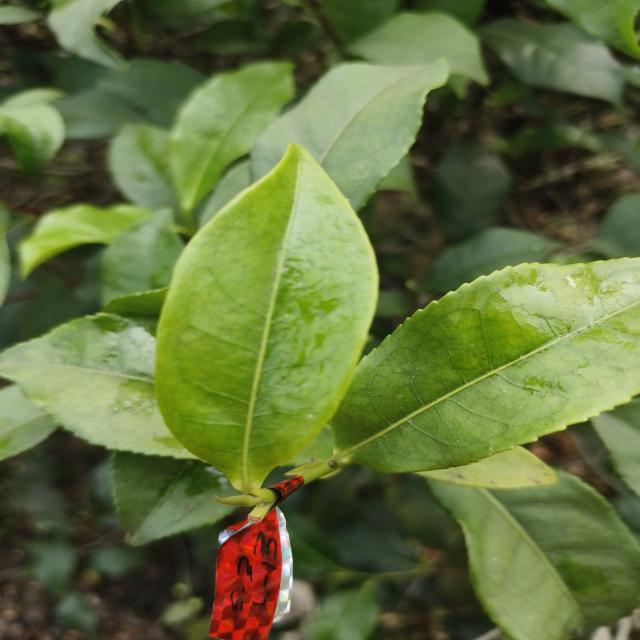Leaf: (155, 144, 378, 493), (331, 258, 640, 472), (429, 471, 640, 640), (251, 59, 448, 211), (0, 313, 195, 459), (169, 62, 294, 218), (479, 19, 626, 104), (110, 452, 235, 545), (19, 204, 153, 278), (349, 12, 488, 83), (423, 227, 559, 293), (433, 137, 510, 240), (101, 209, 184, 303), (318, 498, 417, 572), (97, 59, 204, 127), (108, 124, 179, 213), (416, 446, 557, 489), (0, 88, 65, 172), (48, 0, 126, 69), (548, 0, 640, 57), (590, 399, 640, 496), (303, 581, 379, 640), (54, 90, 144, 139), (0, 385, 56, 460), (287, 511, 341, 578), (28, 540, 76, 594)
